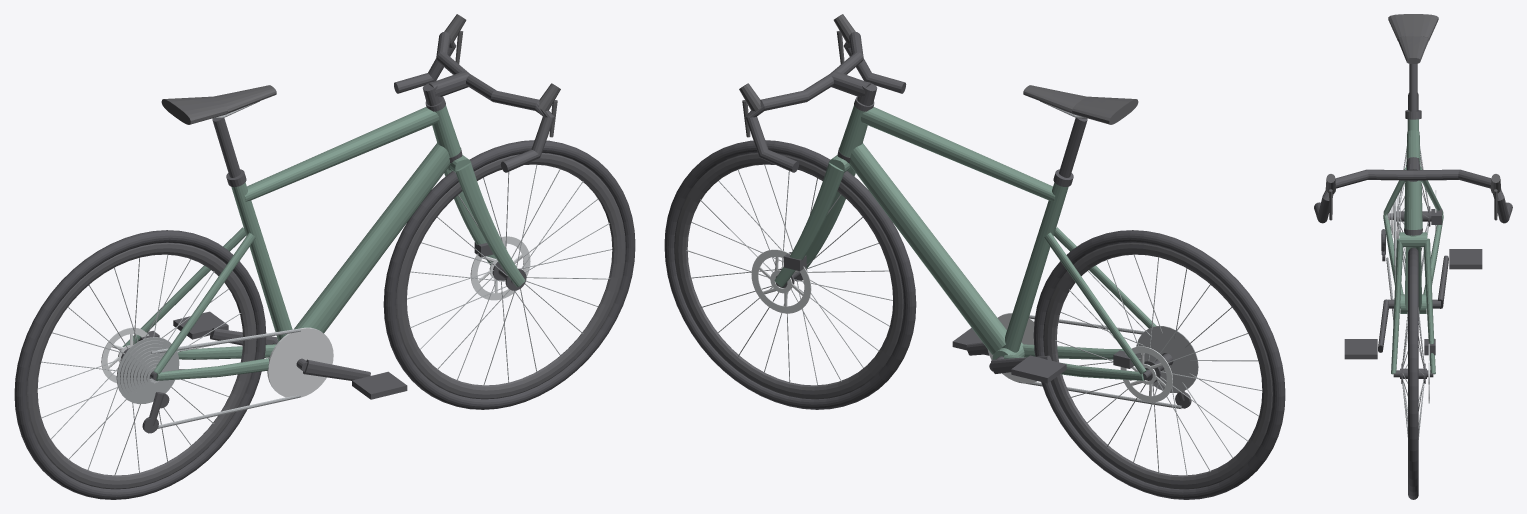
The model's file is road-cc-x-lab-rs5.glb.
3 views of the same model, side by side, from view 1: azimuth 30°, elevation 25°; view 2: azimuth 150°, elevation 25°; view 3: azimuth 270°, elevation 25° (orthographic). The views are drawn at different scales.
Parts seen in each view (by area): view 1: rear_wheel_tire, front_wheel_tire, rear_wheel_rim, front_wheel_rim, frame_downtube, frame_toptube, cockpit_dropbar, drivetrain_chainring, front_wheel_spokes, drivetrain_crankset, fork_rigid_blades, drivetrain_cassette (+12 smaller); view 2: rear_wheel_tire, front_wheel_tire, rear_wheel_rim, front_wheel_rim, frame_downtube, frame_toptube, cockpit_dropbar, fork_rigid_blades, frame_seattube, front_wheel_spokes, rear_wheel_spokes, rear_seatstays (+11 smaller); view 3: front_wheel_tire, cockpit_dropbar, drivetrain_crankset, fork_rigid_blades, saddle_shell, frame_headtube, rear_chainstays, front_wheel_spokes, cockpit_shifter_hoods, rear_seatstays, rear_wheel_spokes, frame_downtube (+8 smaller).
Boxes of the visible parts, left/top/right/bottom form: rear_wheel_tire: left=14, top=230, right=266, bottom=499; front_wheel_tire: left=383, top=140, right=635, bottom=409; rear_wheel_rim: left=27, top=242, right=256, bottom=489; front_wheel_rim: left=396, top=153, right=625, bottom=399; frame_downtube: left=294, top=143, right=450, bottom=333; frame_toptube: left=244, top=107, right=438, bottom=201; cockpit_dropbar: left=394, top=32, right=554, bottom=172; drivetrain_chainring: left=267, top=327, right=333, bottom=397; front_wheel_spokes: left=407, top=164, right=612, bottom=386; drivetrain_crankset: left=173, top=311, right=407, bottom=399; fork_rigid_blades: left=444, top=155, right=525, bottom=287; drivetrain_cassette: left=116, top=337, right=179, bottom=404; rear_wheel_tire: left=1033, top=230, right=1285, bottom=499; front_wheel_tire: left=664, top=140, right=916, bottom=409; rear_wheel_rim: left=1043, top=242, right=1272, bottom=489; front_wheel_rim: left=674, top=153, right=903, bottom=399; frame_downtube: left=849, top=143, right=1006, bottom=354; frame_toptube: left=861, top=107, right=1055, bottom=201; cockpit_dropbar: left=745, top=32, right=906, bottom=172; fork_rigid_blades: left=774, top=155, right=855, bottom=287; frame_seattube: left=1002, top=182, right=1068, bottom=352; front_wheel_spokes: left=686, top=164, right=892, bottom=384; rear_wheel_spokes: left=1055, top=254, right=1262, bottom=474; rear_seatstays: left=1044, top=227, right=1156, bottom=374; front_wheel_tire: left=1408, top=247, right=1418, bottom=499; cockpit_dropbar: left=1314, top=169, right=1512, bottom=223; drivetrain_crankset: left=1344, top=249, right=1482, bottom=359; fork_rigid_blades: left=1391, top=232, right=1435, bottom=374; saddle_shell: left=1388, top=14, right=1438, bottom=63; frame_headtube: left=1404, top=180, right=1422, bottom=229; rear_chainstays: left=1383, top=214, right=1443, bottom=294; front_wheel_spokes: left=1402, top=307, right=1424, bottom=439; cockpit_shifter_hoods: left=1325, top=174, right=1500, bottom=220; rear_seatstays: left=1383, top=167, right=1443, bottom=215; rear_wheel_spokes: left=1398, top=146, right=1428, bottom=275; frame_downtube: left=1405, top=247, right=1421, bottom=310.
Bounding box in the file's own units: 1.67 × 0.98 × 0.5316.
